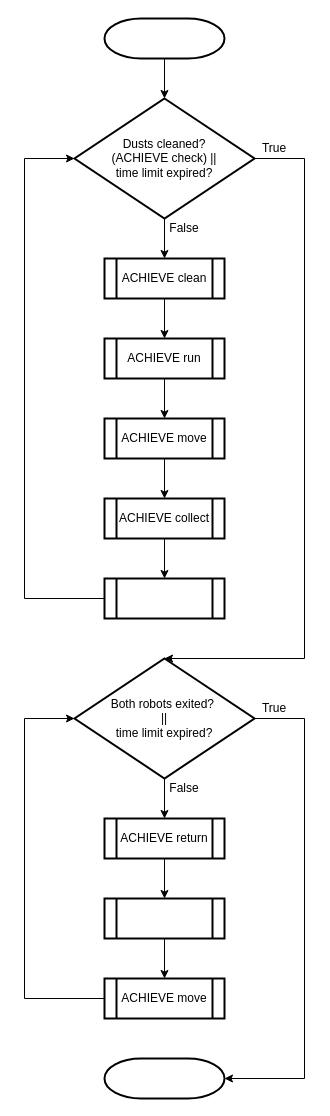
Image size: 330x1116. Some labels were removed from this diagram. The shapes that lost their labels are listed below. From the top down, each one's centre as x and y in pixels, then its label:
At point 164,38: "Start".
At point 164,598: "ACHIEVE store".
At point 164,918: "ACHIEVE quit".
At point 164,1078: "End".
